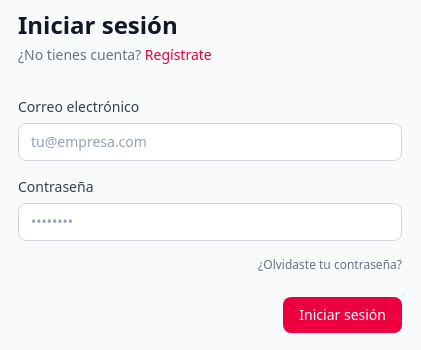
Test: LoginPage › el botón muestra "Cargando..." mientras la petición está en vuelo
This screenshot has width=421, height=350.
Type "test@nn.com" into the field labelled "Correo electrónico".
click(210, 142); type("test@nn.com")  # box 18,123 -> 402,161
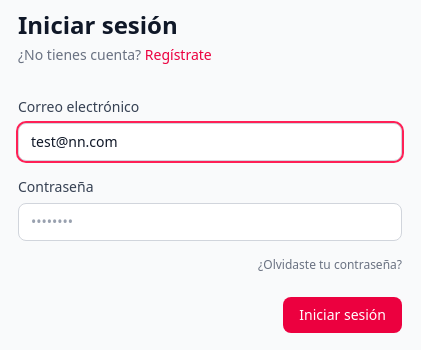
Type "Password1" into the password field labelled "Contraseña".
click(210, 222); type("Password1")  # box 18,203 -> 402,241
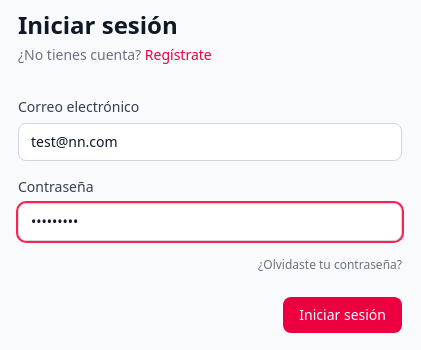
Click the button "Iniciar sesión".
click(343, 315)  # box 283,297 -> 402,333
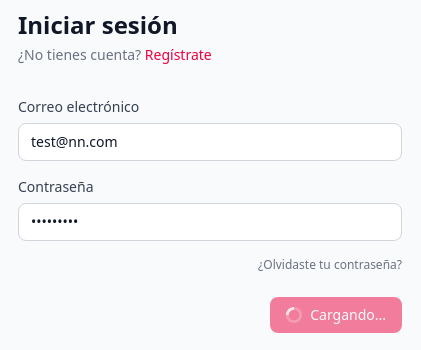
Expected: the text "Cargando..." is shown, 310,305 -> 386,325
